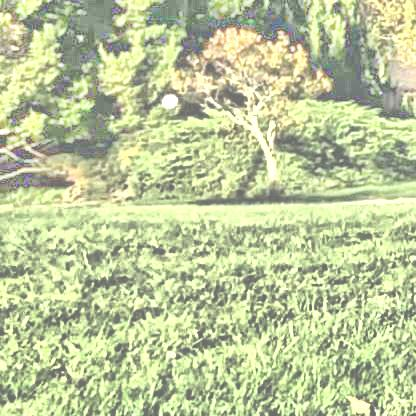golfball: (158, 90, 177, 107)
